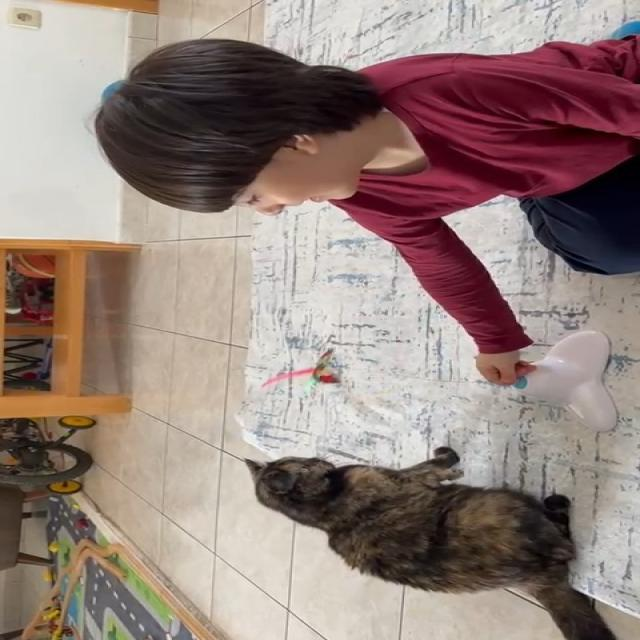authorized: (243, 446, 620, 640)
